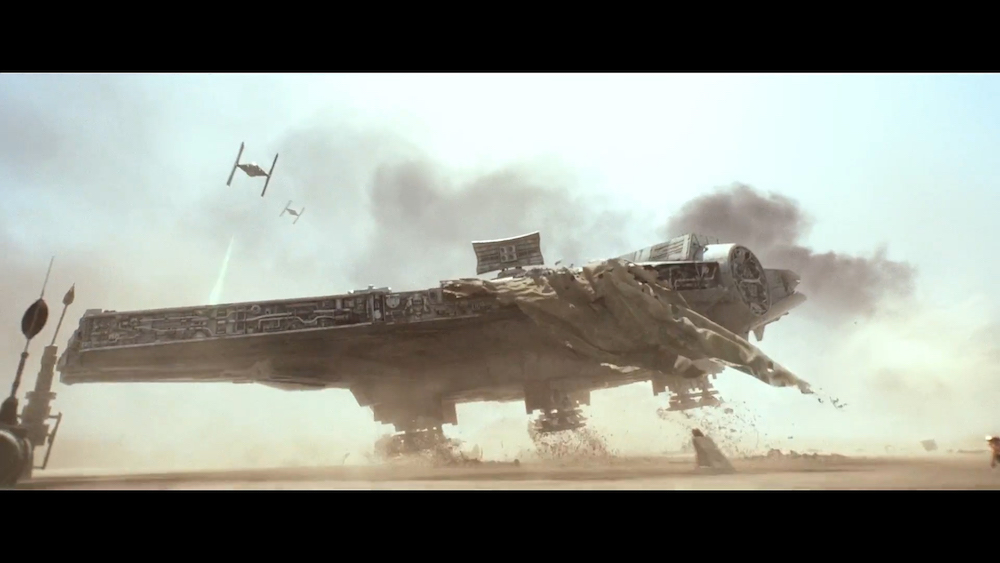Millennium Falcon: (59, 233, 808, 413)
Tie Fighter: (228, 144, 279, 197), (280, 201, 305, 225)
